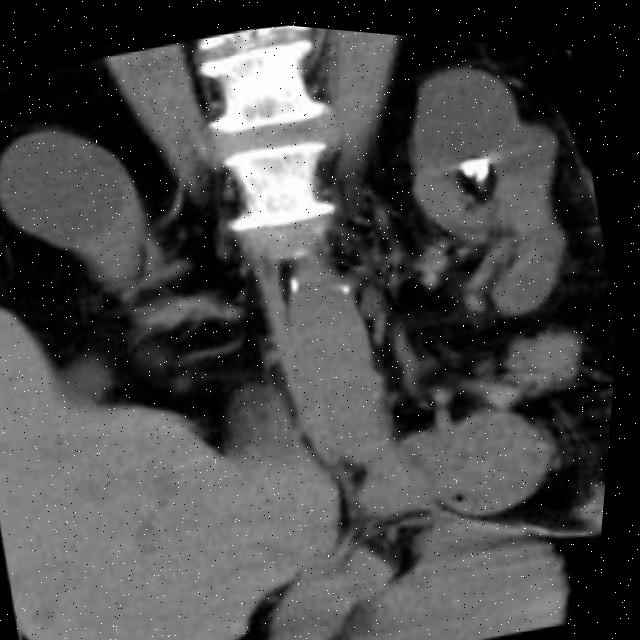Tas_Var: (455, 139, 499, 180)
